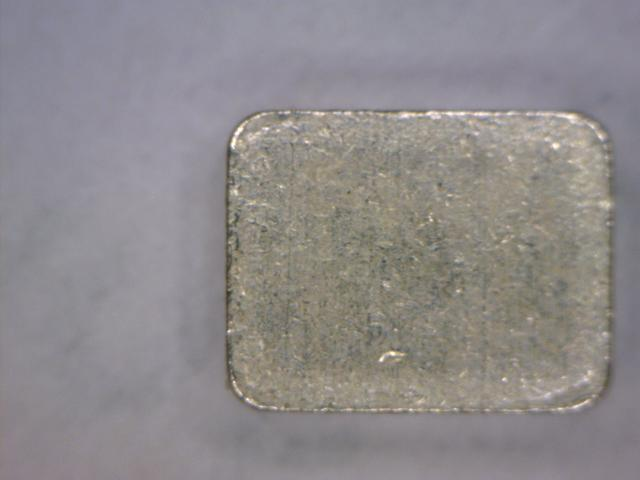ok: (214, 102, 630, 433)
